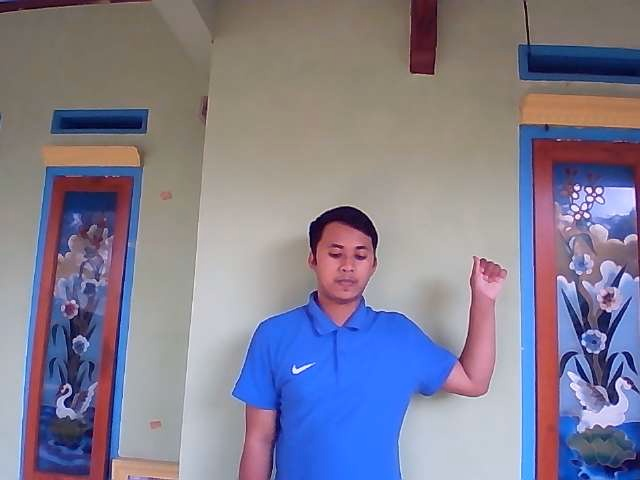A: (469, 255, 508, 297)
